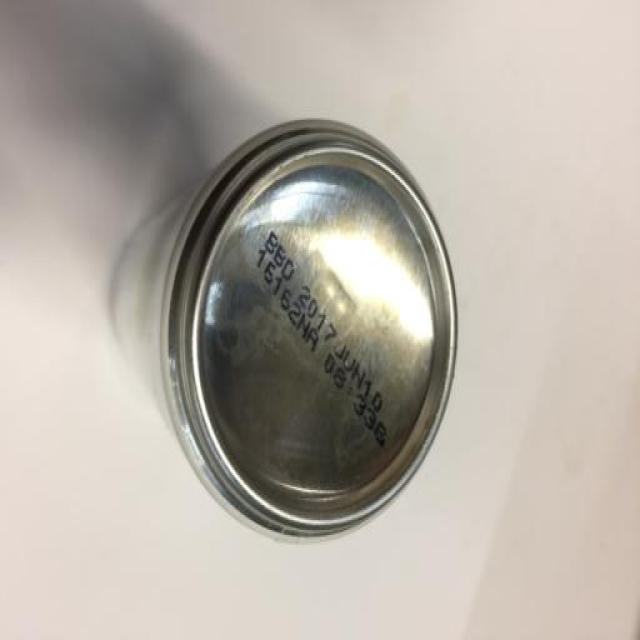Metal: (104, 117, 458, 543)
